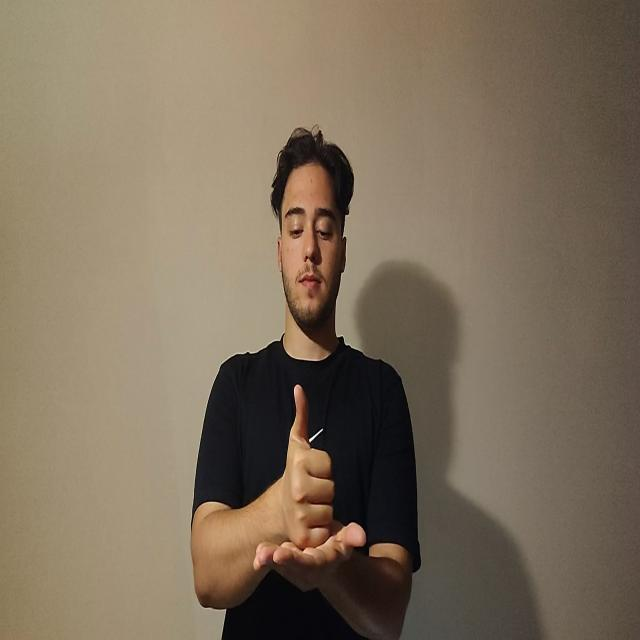help: (252, 379, 363, 576)
